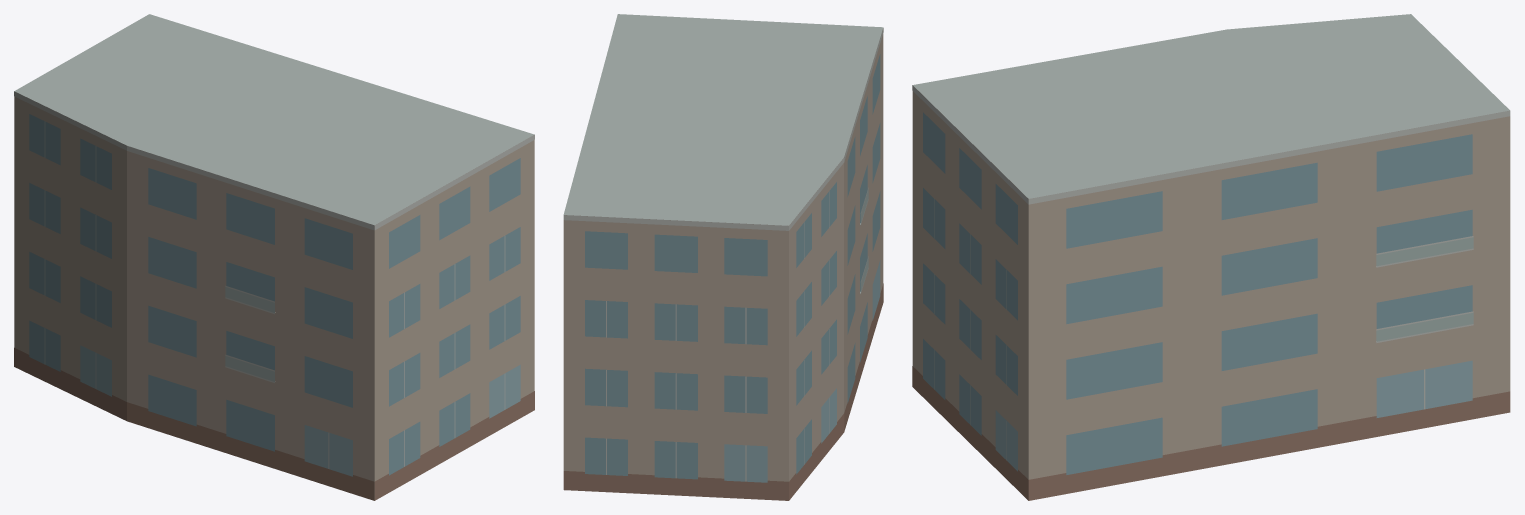
Rendered from survey-upis-32881041.glb.
3 renders of one model, left to right at view 1: azimuth 30°, elevation 25°; view 2: azimuth 150°, elevation 25°; view 3: azimuth 270°, elevation 25°, orthographic. The views are drawn at different scales.
Parts seen in each view (by area): view 1: survey-upis-32881041.tmp; view 2: survey-upis-32881041.tmp; view 3: survey-upis-32881041.tmp.
Boxes of the visible parts, x1,y1,x2,y2 form: survey-upis-32881041.tmp: (14, 14, 534, 500); survey-upis-32881041.tmp: (563, 14, 883, 500); survey-upis-32881041.tmp: (912, 14, 1510, 500).
Size of the model in its own units: 17.16 by 13.05 by 23.43.
